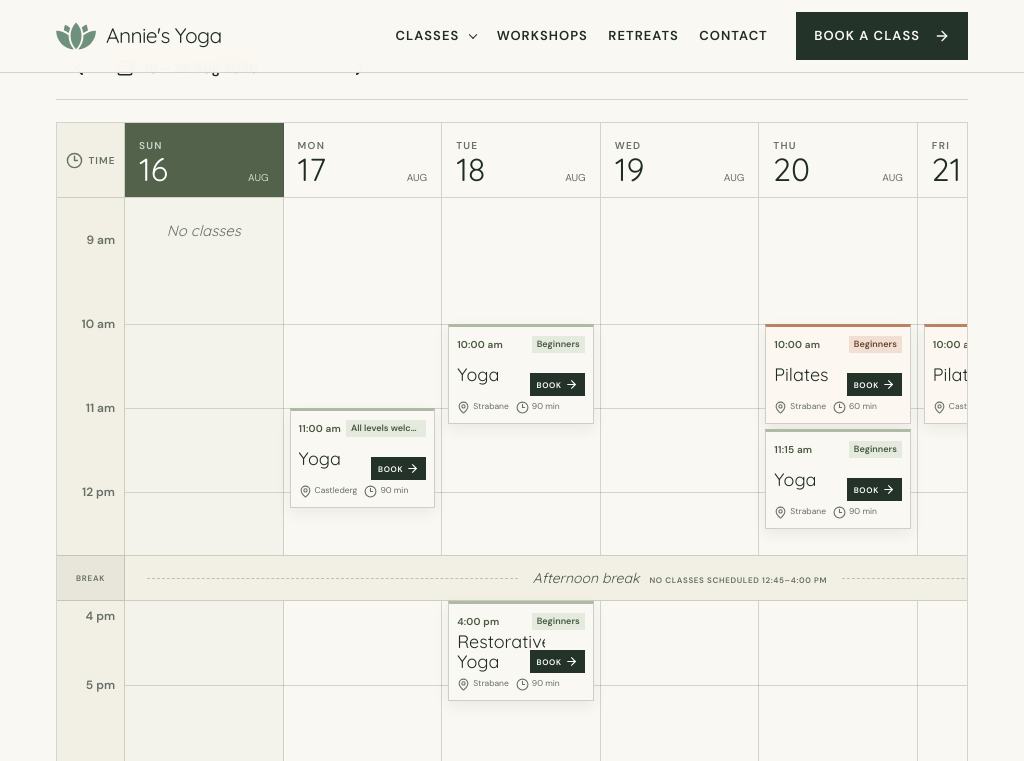
Test case: SchedulePage reservations › shows Pilates pricing when reserving a Pilates class
(page scrolled)
Click the 2nd button "Book" at x=874, y=385, box left=847, top=373, right=902, bottom=396
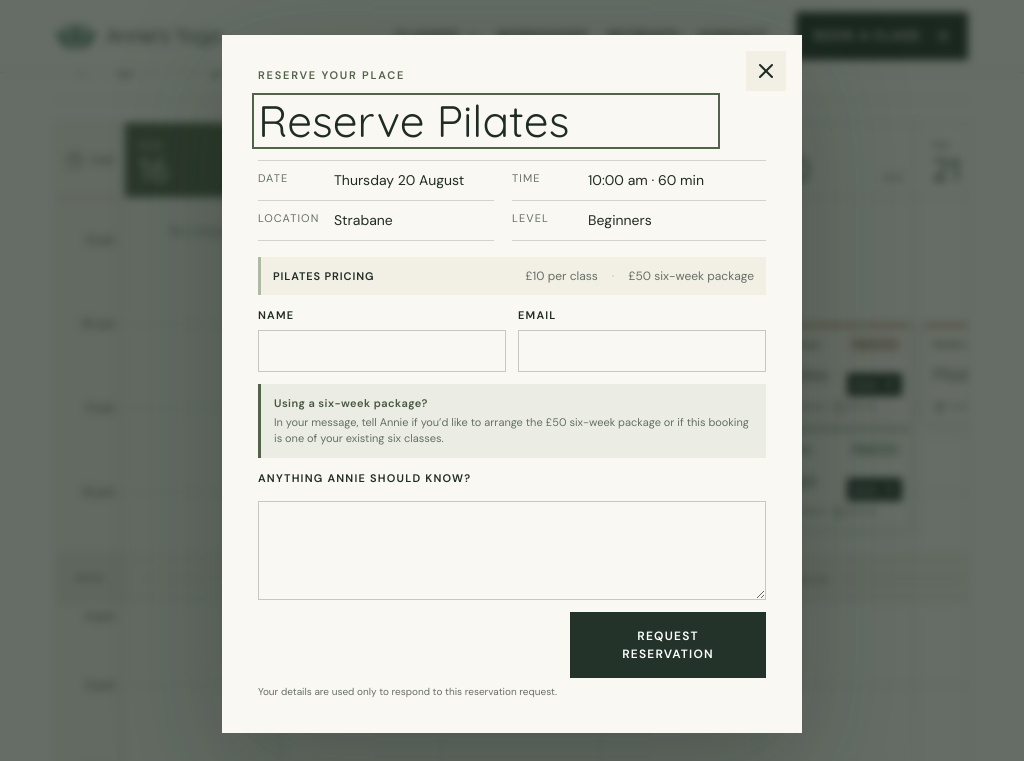
Now the element named "Class pricing" shows "£10 per class", box left=258, top=257, right=766, bottom=295
Now the element named "Class pricing" shows "£50 six-week package", box left=258, top=257, right=766, bottom=295
